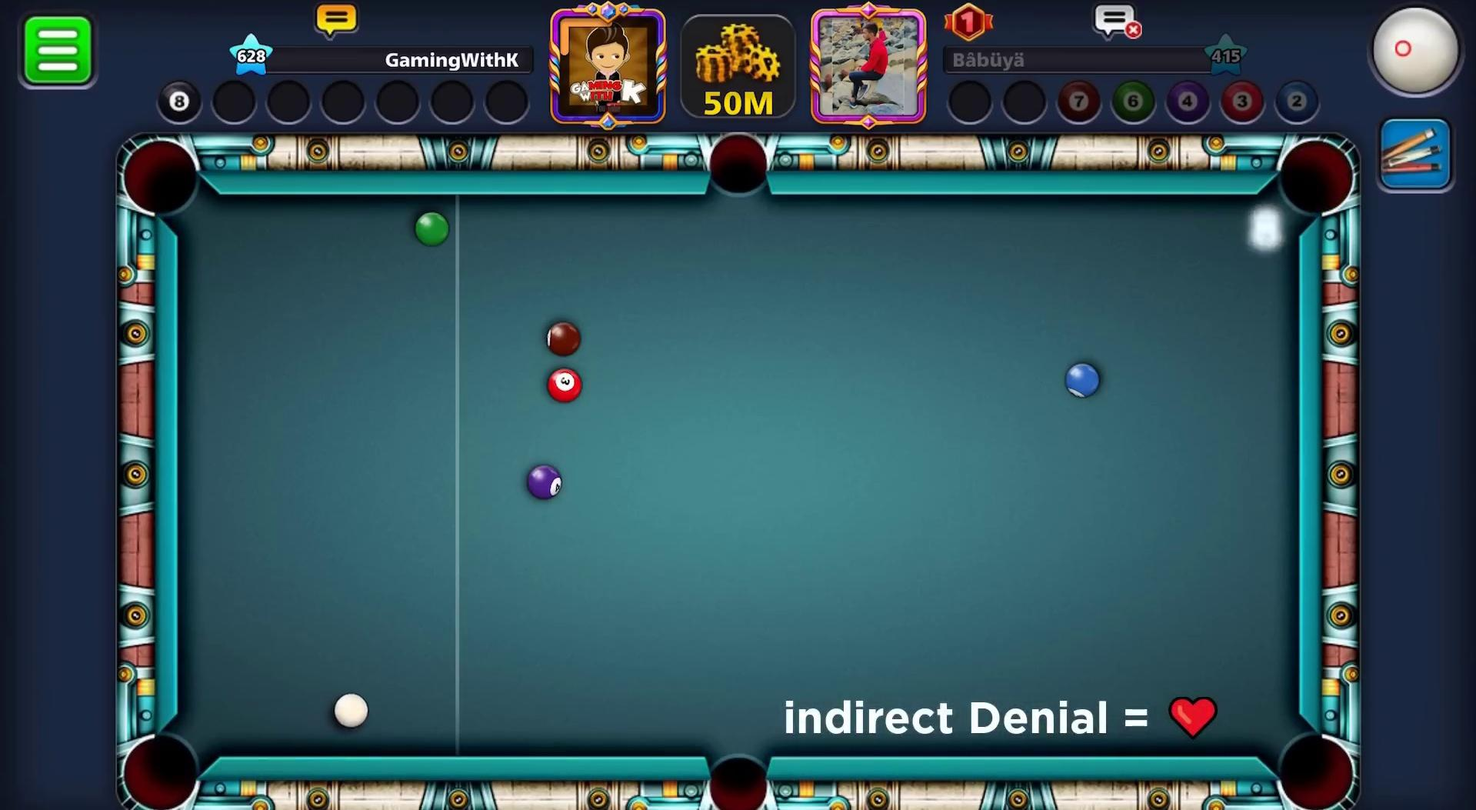Ball: (508, 453, 574, 507), (529, 316, 586, 365), (535, 362, 594, 407), (1061, 358, 1106, 406), (407, 210, 450, 249)
Hole: (103, 712, 221, 809), (106, 124, 210, 228), (1256, 714, 1367, 809), (1264, 128, 1364, 230), (699, 120, 789, 216), (686, 732, 785, 809)
Play_Area: (178, 194, 1298, 752)
Spin: (1362, 0, 1475, 111)
White: (322, 688, 378, 732)
